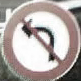Don't turn left: (3, 3, 73, 75)
